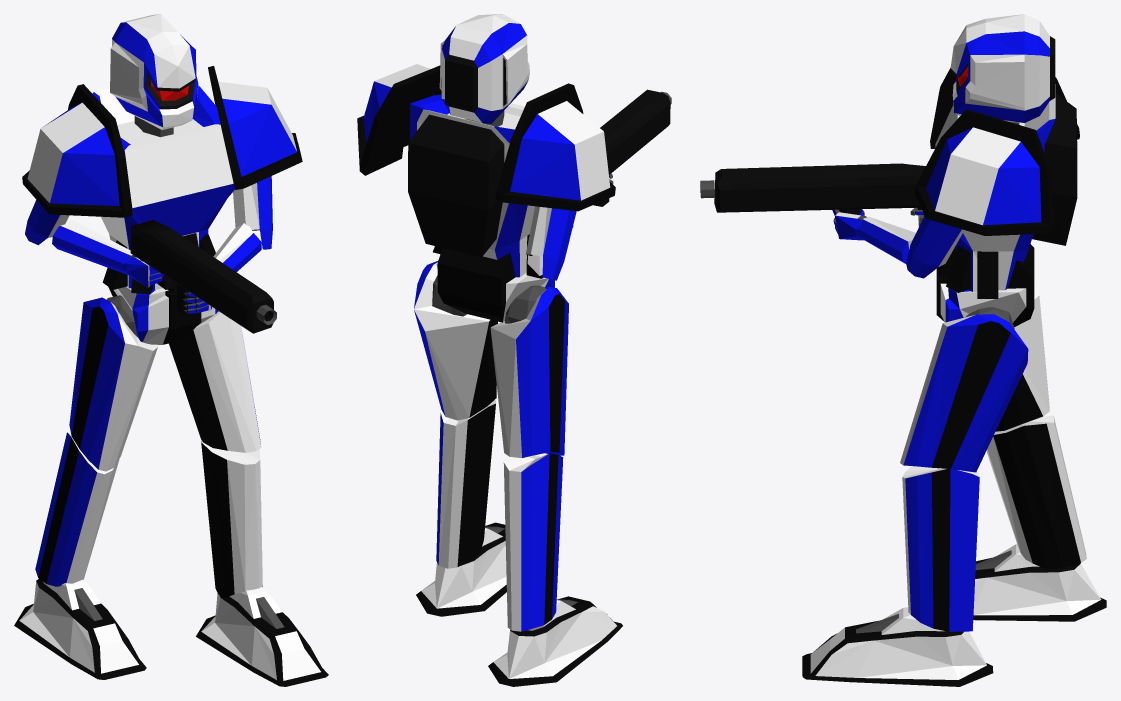
Rendered from robot_animation_000002.obj.
3 renders of one model, left to right at view 1: azimuth 30°, elevation 25°; view 2: azimuth 150°, elevation 25°; view 3: azimuth 270°, elevation 25°, orthographic. The views are drawn at different scales.
Parts seen in each view (by area): view 1: Chest_plate_Cube.004, Cube.002_Cube.059, R_Thigh_Cube.005, R_Thigh.002_Cube.027, Head_base_Cube.022, R_Shin.002_Cube.029, R_Foot_Cube, R_Foot.002_Cube.035, Cube_Cube.001, R_Shin_Cube.007, Cube_Cube.021, Pelvis_Cube.006 (+5 smaller); view 2: Chest_plate_Cube.004, Cube.002_Cube.059, R_Thigh_Cube.005, R_Shin_Cube.007, Head_base_Cube.022, R_Shin.002_Cube.029, R_Thigh.002_Cube.027, R_Foot_Cube, Cube_Cube.021, Pelvis_Cube.006, R_Foot.002_Cube.035, Cube_Cube.001 (+2 smaller); view 3: Cube_Cube.021, R_Thigh.002_Cube.027, R_Shin.002_Cube.029, R_Shin_Cube.007, R_Foot.002_Cube.035, Head_base_Cube.022, Cube_Cube.001, Chest_plate_Cube.004, R_Foot_Cube, Pelvis_Cube.006, R_Thigh_Cube.005, L_Arm_Cube.014 (+3 smaller).
Part boxes in pixels (x1=…): Chest_plate_Cube.004: x1=92, y1=86, x2=234, y2=294; Cube.002_Cube.059: x1=22, y1=84, x2=132, y2=217; R_Thigh_Cube.005: x1=69, y1=297, x2=158, y2=471; R_Thigh.002_Cube.027: x1=169, y1=311, x2=261, y2=452; Head_base_Cube.022: x1=110, y1=14, x2=198, y2=129; R_Shin.002_Cube.029: x1=201, y1=440, x2=262, y2=597; R_Foot_Cube: x1=14, y1=579, x2=146, y2=679; R_Foot.002_Cube.035: x1=196, y1=587, x2=328, y2=686; Cube_Cube.001: x1=130, y1=220, x2=276, y2=333; R_Shin_Cube.007: x1=35, y1=432, x2=119, y2=586; Cube_Cube.021: x1=208, y1=66, x2=302, y2=189; Pelvis_Cube.006: x1=108, y1=286, x2=218, y2=344; Chest_plate_Cube.004: x1=408, y1=94, x2=543, y2=278; Cube.002_Cube.059: x1=495, y1=83, x2=615, y2=211; R_Thigh_Cube.005: x1=490, y1=287, x2=568, y2=457; R_Shin_Cube.007: x1=503, y1=453, x2=563, y2=631; Head_base_Cube.022: x1=439, y1=14, x2=529, y2=123; R_Shin.002_Cube.029: x1=436, y1=400, x2=495, y2=568; R_Thigh.002_Cube.027: x1=414, y1=261, x2=497, y2=420; R_Foot_Cube: x1=488, y1=596, x2=622, y2=686; Cube_Cube.021: x1=357, y1=64, x2=441, y2=175; Pelvis_Cube.006: x1=436, y1=248, x2=554, y2=322; R_Foot.002_Cube.035: x1=416, y1=522, x2=506, y2=616; Cube_Cube.001: x1=593, y1=89, x2=671, y2=206; Cube_Cube.021: x1=914, y1=109, x2=1054, y2=235; R_Thigh.002_Cube.027: x1=900, y1=314, x2=1028, y2=472; R_Shin.002_Cube.029: x1=902, y1=466, x2=979, y2=631; R_Shin_Cube.007: x1=986, y1=411, x2=1086, y2=569; R_Foot.002_Cube.035: x1=802, y1=607, x2=993, y2=686; Head_base_Cube.022: x1=950, y1=14, x2=1055, y2=122; Cube_Cube.001: x1=700, y1=163, x2=925, y2=216; Chest_plate_Cube.004: x1=935, y1=84, x2=1077, y2=298; R_Foot_Cube: x1=973, y1=544, x2=1106, y2=621; Pelvis_Cube.006: x1=936, y1=244, x2=1034, y2=326; R_Thigh_Cube.005: x1=995, y1=285, x2=1049, y2=431; L_Arm_Cube.014: x1=906, y1=215, x2=964, y2=278.
Bounding box in the file's own units: 1.32 × 3.03 × 1.8.
